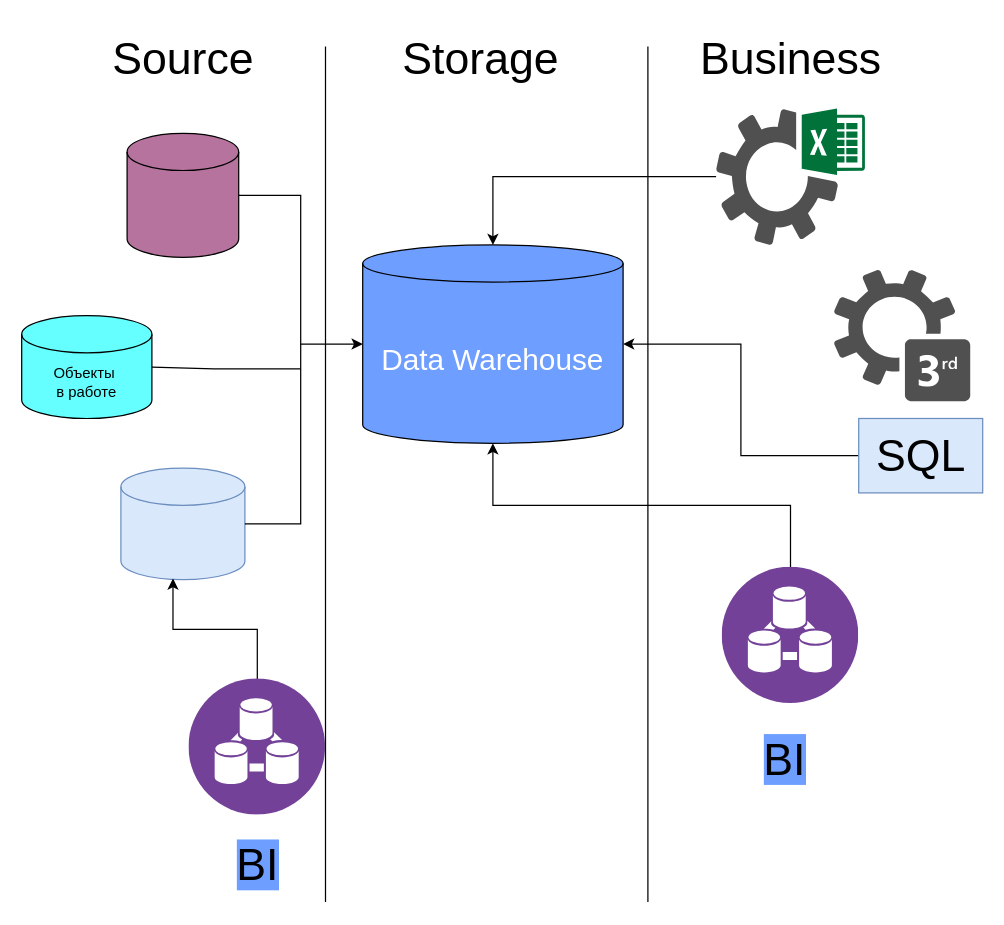
This 1004x925 diagram has some shape labels left out. Each missing label, with the centre of its shape:
"Заявки" goes at point 182,194.
"Склад" goes at point 182,523.
